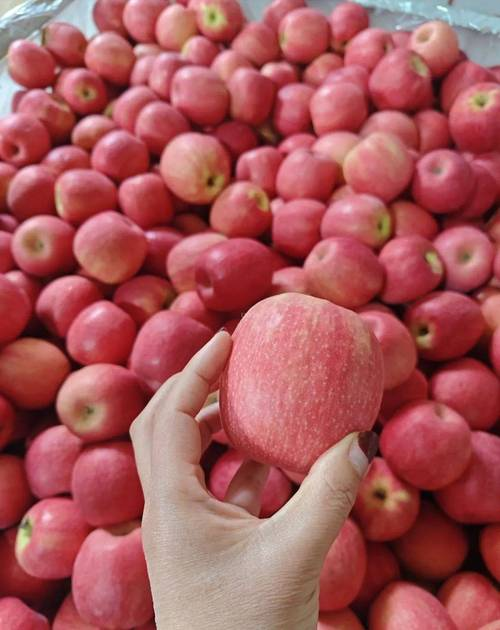ripe: (223, 288, 384, 482), (59, 519, 153, 628), (378, 394, 481, 493), (124, 304, 219, 395), (69, 444, 157, 535), (10, 501, 116, 575), (47, 362, 148, 439), (154, 125, 235, 203), (66, 209, 153, 278), (188, 233, 270, 304), (61, 291, 138, 366), (305, 231, 378, 304), (344, 133, 418, 204), (272, 141, 347, 207), (402, 148, 479, 211), (368, 230, 440, 296), (408, 288, 476, 357), (321, 196, 400, 254), (366, 45, 431, 112), (434, 227, 498, 291), (167, 59, 230, 124), (440, 79, 500, 140), (276, 3, 337, 63), (309, 76, 366, 137), (272, 199, 331, 252)
